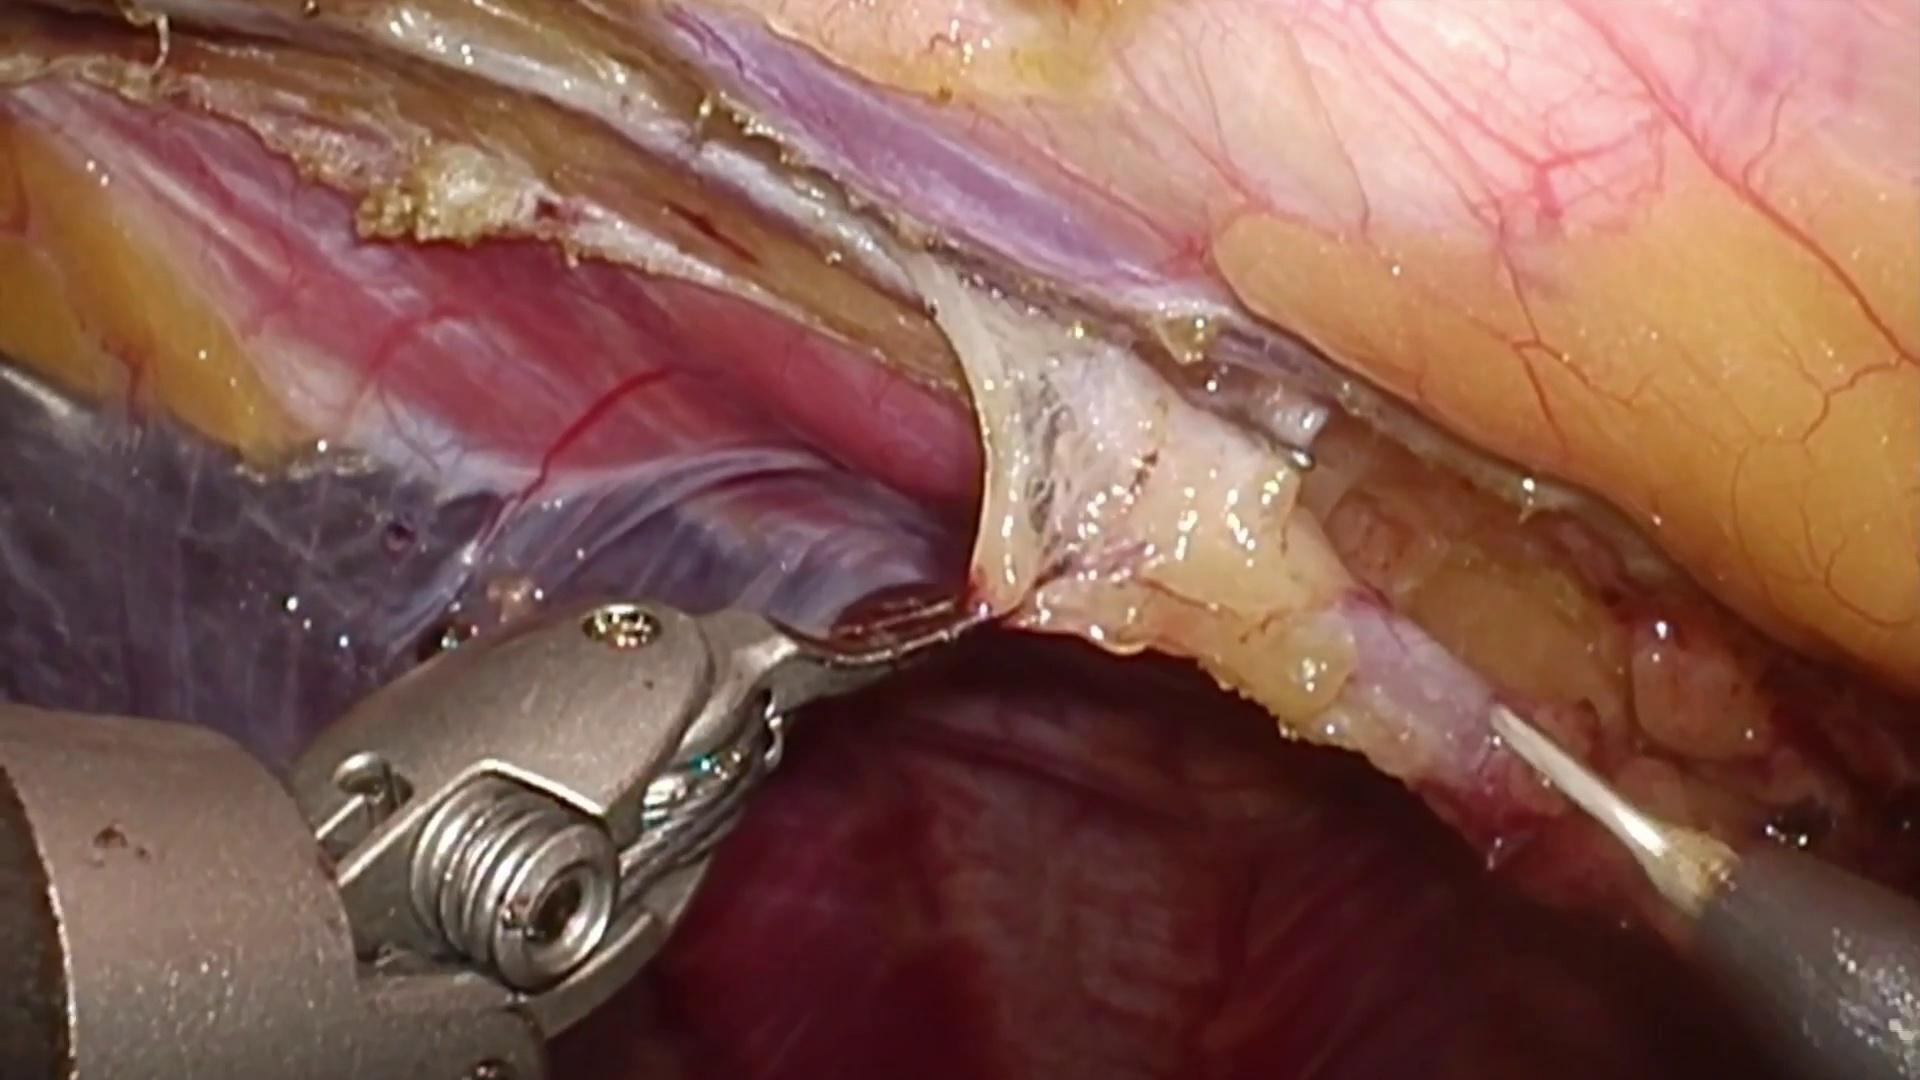Cautery_Spatula: (1484, 699, 1920, 1080)
Debakey: (709, 576, 1005, 707)
